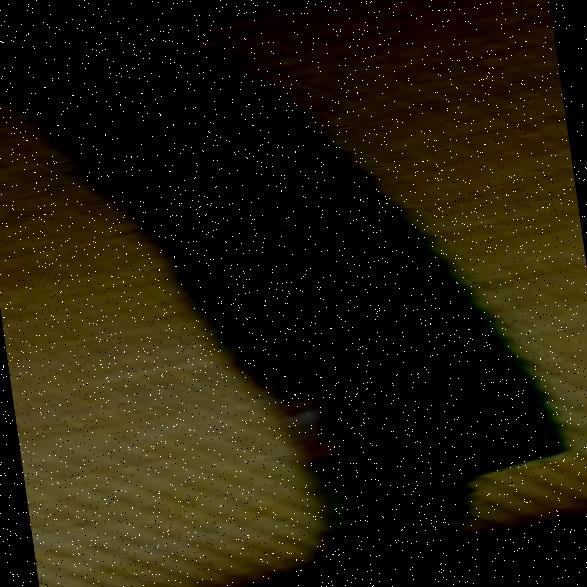Leaf_smut: (168, 98, 372, 310), (219, 336, 376, 481), (80, 38, 198, 134)
